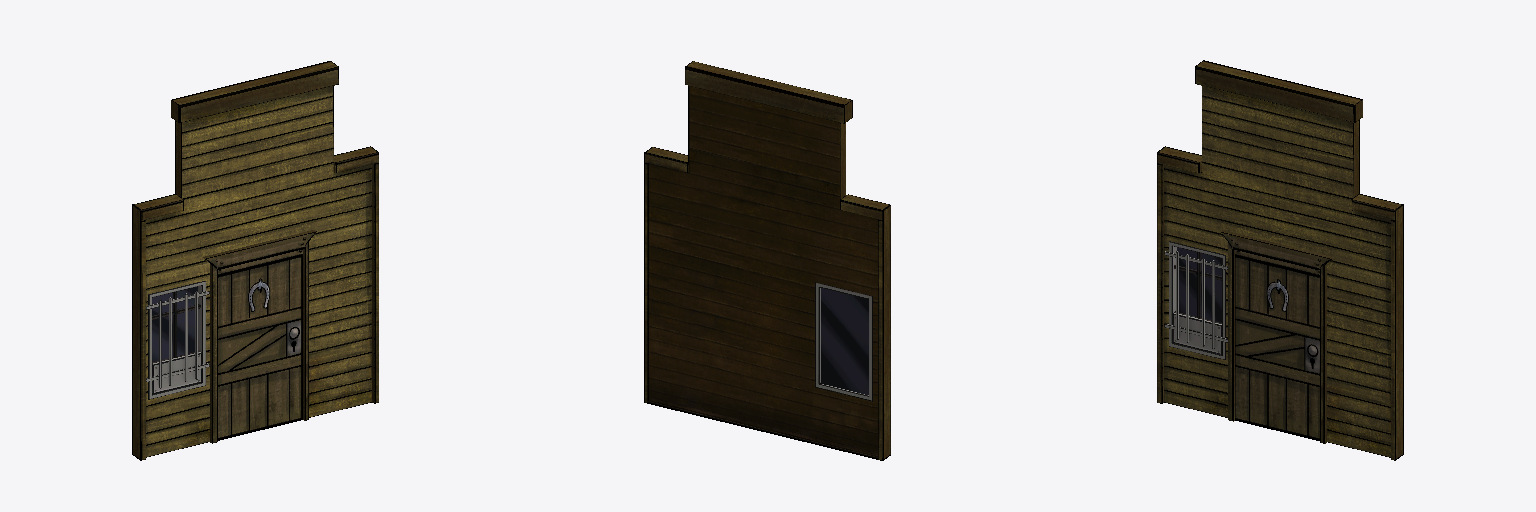
3 renders of one model, left to right at view 1: azimuth 30°, elevation 25°; view 2: azimuth 150°, elevation 25°; view 3: azimuth 330°, elevation 25°, orthographic.
Parts seen in each view (by area): view 1: Model_SheriffOffice_Front; view 2: Model_SheriffOffice_Front; view 3: Model_SheriffOffice_Front.
Boxes of the visible parts, <box> form: Model_SheriffOffice_Front: <box>132,61,378,460</box>; Model_SheriffOffice_Front: <box>644,61,890,460</box>; Model_SheriffOffice_Front: <box>1157,60,1403,460</box>.
Size of the model in its own units: 4.41 by 6.1 by 0.2861.
1 materials, 1 textured.